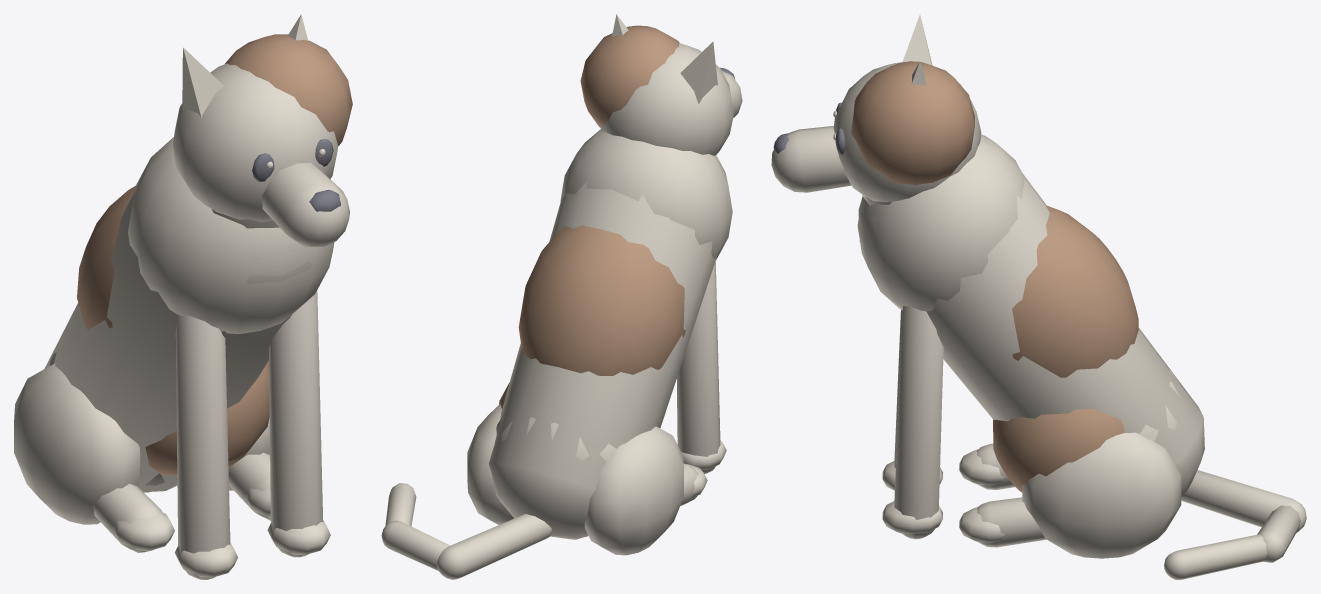
Rendered from companion-animals-and-pet-home-dog-terrier-sit-10f767ef__20567.glb.
3 views of the same model, side by side, from view 1: azimuth 30°, elevation 25°; view 2: azimuth 150°, elevation 25°; view 3: azimuth 270°, elevation 25° (orthographic). The views are drawn at different scales.
Parts seen in each view (by area): view 1: dog-terrier-sit; view 2: dog-terrier-sit; view 3: dog-terrier-sit.
Boxes of the visible parts, x1,y1,x2,y2 form: dog-terrier-sit: (14,14,352,579); dog-terrier-sit: (381,14,742,579); dog-terrier-sit: (771,14,1306,579).
Bounding box in the file's own units: 0.2874 × 0.5042 × 0.5017.
